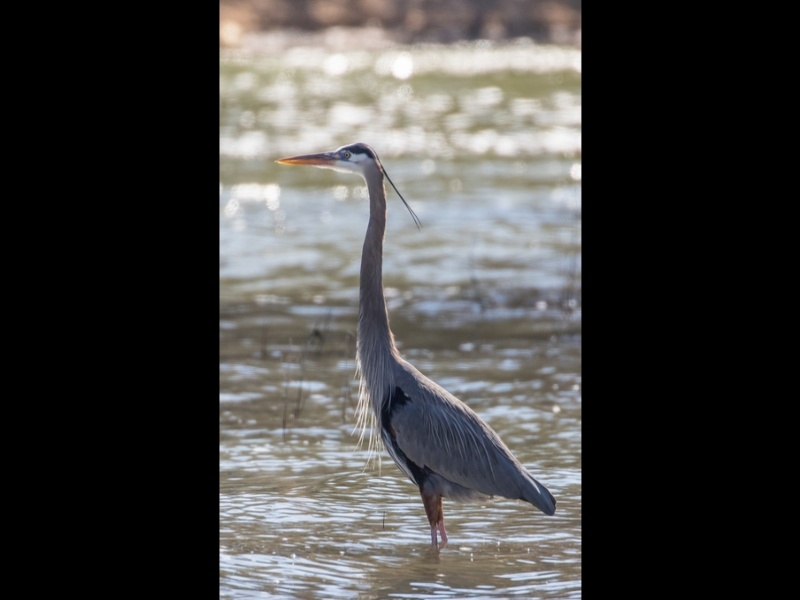heron: (272, 141, 557, 552)
